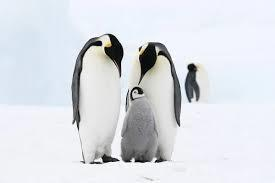emporer: (127, 27, 205, 158), (62, 24, 127, 169)
